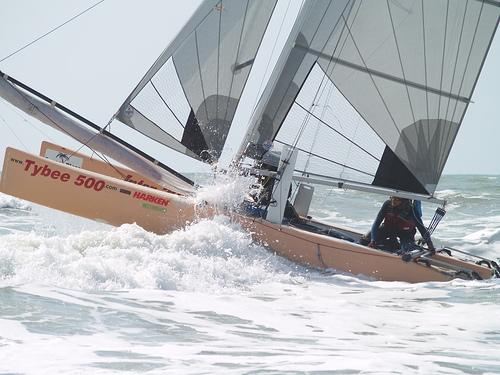Ship: (1, 1, 500, 284)
